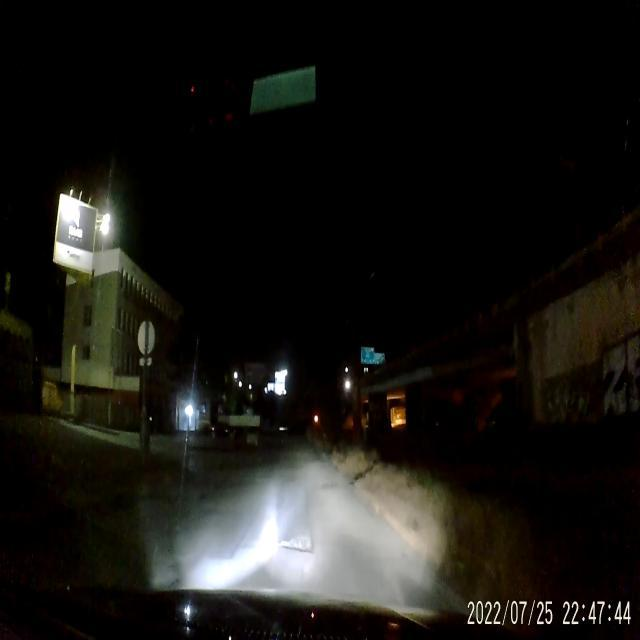Pothole: (282, 534, 316, 553), (322, 478, 338, 492)
